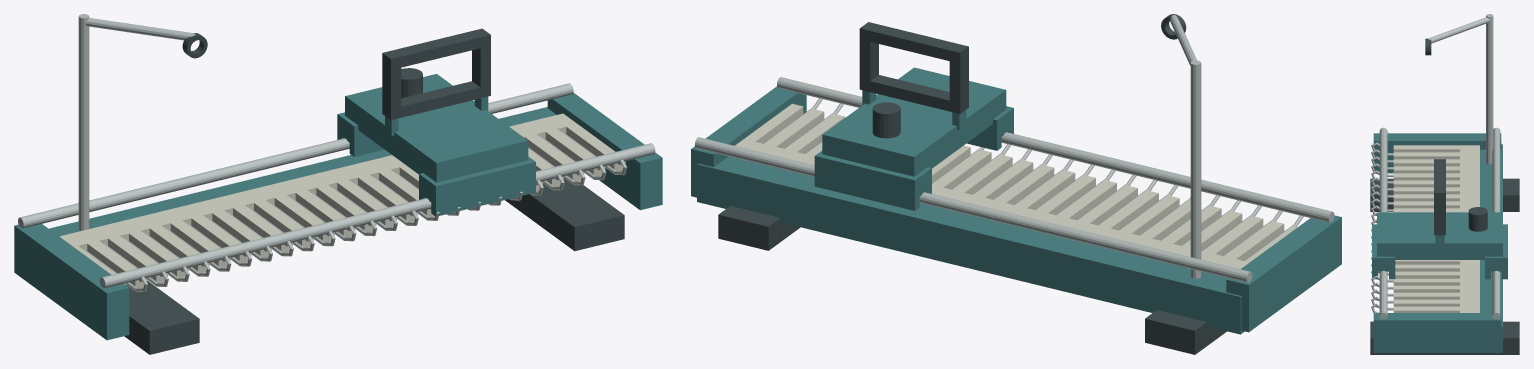
3 views of the same model, side by side, from view 1: azimuth 30°, elevation 25°; view 2: azimuth 150°, elevation 25°; view 3: azimuth 270°, elevation 25° (orthographic). The views are drawn at different scales.
Parts seen in each view (by area): view 1: WholeContinuousFrontNotchedNeedleBed, WholeCrossBedCarriageBridge, WholeGuideEndSupport0, WholeRaisedOpenCarriageGrip, WholeStraightGuideRail0, WholeStraightGuideRail1, WholeLowGroundShoe1, WholeGuideEndSupport1, WholeLongRearBedHousing, WholeUndercutCarriageSaddle0, WholeLowGroundShoe0, WholeRearGuideMast (+3 smaller); view 2: WholeLongRearBedHousing, WholeContinuousFrontNotchedNeedleBed, WholeCrossBedCarriageBridge, WholeGuideEndSupport0, WholeStraightGuideRail1, WholeRaisedOpenCarriageGrip, WholeStraightGuideRail0, WholeUndercutCarriageSaddle1, WholeGuideEndSupport1, WholeRearGuideMast, WholeLowGroundShoe1, WholeLowGroundShoe0 (+2 smaller); view 3: WholeContinuousFrontNotchedNeedleBed, WholeCrossBedCarriageBridge, WholeGuideEndSupport1, WholeGuideEndSupport0, WholeLongRearBedHousing, WholeStraightGuideRail0, WholeStraightGuideRail1, WholeRearGuideMast, WholeLowGroundShoe1, WholeLowGroundShoe0, WholeRaisedOpenCarriageGrip, WholeUndercutCarriageSaddle0 (+3 smaller).
Boxes of the visible parts, box(x1,y1,x2,y2) form: WholeContinuousFrontNotchedNeedleBed: box(59, 113, 625, 288); WholeCrossBedCarriageBridge: box(345, 74, 528, 182); WholeGuideEndSupport0: box(14, 224, 129, 340); WholeRaisedOpenCarriageGrip: box(382, 28, 490, 119); WholeStraightGuideRail0: box(99, 143, 655, 288); WholeStraightGuideRail1: box(18, 83, 573, 228); WholeLowGroundShoe1: box(505, 178, 624, 251); WholeGuideEndSupport1: box(547, 92, 662, 210); WholeLongRearBedHousing: box(49, 107, 556, 236); WholeUndercutCarriageSaddle0: box(419, 156, 535, 216); WholeLowGroundShoe0: box(124, 280, 199, 354); WholeRearGuideMast: box(78, 14, 89, 230); WholeLongRearBedHousing: box(697, 156, 1244, 334); WholeContinuousFrontNotchedNeedleBed: box(735, 103, 1297, 269); WholeCrossBedCarriageBridge: box(822, 67, 1006, 176); WholeGuideEndSupport0: box(1226, 215, 1341, 332); WholeStraightGuideRail1: box(695, 137, 1252, 282); WholeRaisedOpenCarriageGrip: box(859, 22, 968, 113); WholeStraightGuideRail0: box(777, 77, 1334, 222); WholeUndercutCarriageSaddle1: box(814, 150, 931, 210); WholeGuideEndSupport1: box(691, 86, 806, 197); WholeRearGuideMast: box(1190, 60, 1201, 278); WholeLowGroundShoe1: box(718, 206, 800, 250); WholeLowGroundShoe0: box(1145, 310, 1226, 354); WholeContinuousFrontNotchedNeedleBed: box(1393, 145, 1479, 312); WholeCrossBedCarriageBridge: box(1377, 212, 1502, 259); WholeGuideEndSupport1: box(1373, 313, 1501, 352); WholeGuideEndSupport0: box(1373, 133, 1501, 173); WholeLongRearBedHousing: box(1480, 144, 1502, 352); WholeStraightGuideRail0: box(1379, 127, 1387, 319); WholeStraightGuideRail1: box(1492, 127, 1500, 319); WholeRearGuideMast: box(1486, 14, 1493, 164); WholeLowGroundShoe1: box(1370, 321, 1519, 354); WholeLowGroundShoe0: box(1370, 178, 1519, 211); WholeRaisedOpenCarriageGrip: box(1434, 159, 1445, 235); WholeUndercutCarriageSaddle0: box(1372, 224, 1395, 279).
Size of the model in its own units: 1.33 by 0.62 by 0.45.
